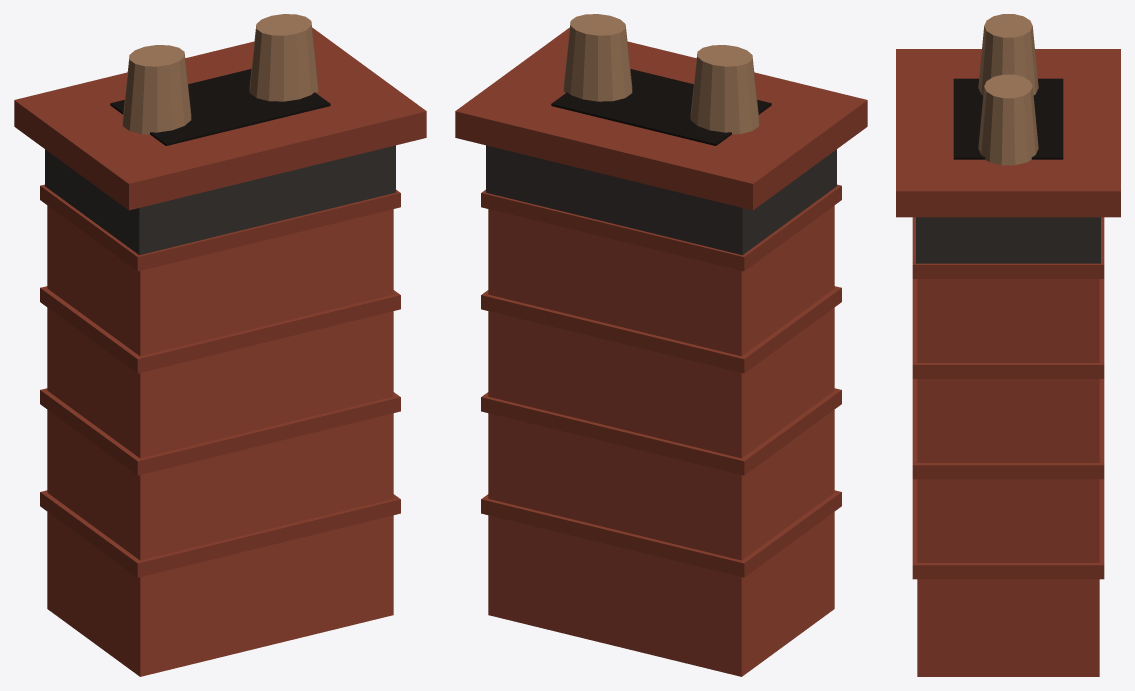
File: chimney-stack-a.glb
3 views of the same model, side by side, from view 1: azimuth 30°, elevation 25°; view 2: azimuth 150°, elevation 25°; view 3: azimuth 270°, elevation 25° (orthographic). The views are drawn at different scales.
Visible parts, largest first — view 1: Body_Brick, Body_BrickDark, Body_CharredGrey, Body_Clay, Body_Dark; view 2: Body_Brick, Body_BrickDark, Body_CharredGrey, Body_Clay, Body_Dark; view 3: Body_Brick, Body_BrickDark, Body_CharredGrey, Body_Clay, Body_Dark.
Boxes of the visible parts, bbox=[...] form: Body_Brick: bbox=[47, 205, 393, 676]; Body_BrickDark: bbox=[14, 27, 426, 577]; Body_CharredGrey: bbox=[45, 145, 395, 255]; Body_Clay: bbox=[122, 14, 318, 134]; Body_Dark: bbox=[110, 69, 330, 145]; Body_Brick: bbox=[488, 205, 834, 676]; Body_BrickDark: bbox=[455, 27, 867, 577]; Body_CharredGrey: bbox=[486, 145, 836, 255]; Body_Clay: bbox=[563, 14, 759, 134]; Body_Dark: bbox=[551, 69, 771, 145]; Body_Brick: bbox=[917, 279, 1099, 676]; Body_BrickDark: bbox=[896, 49, 1120, 579]; Body_CharredGrey: bbox=[916, 217, 1100, 263]; Body_Clay: bbox=[978, 14, 1038, 165]; Body_Dark: bbox=[953, 78, 1063, 159].
Bounding box in the file's own units: 1.2 × 2.2 × 0.8.
